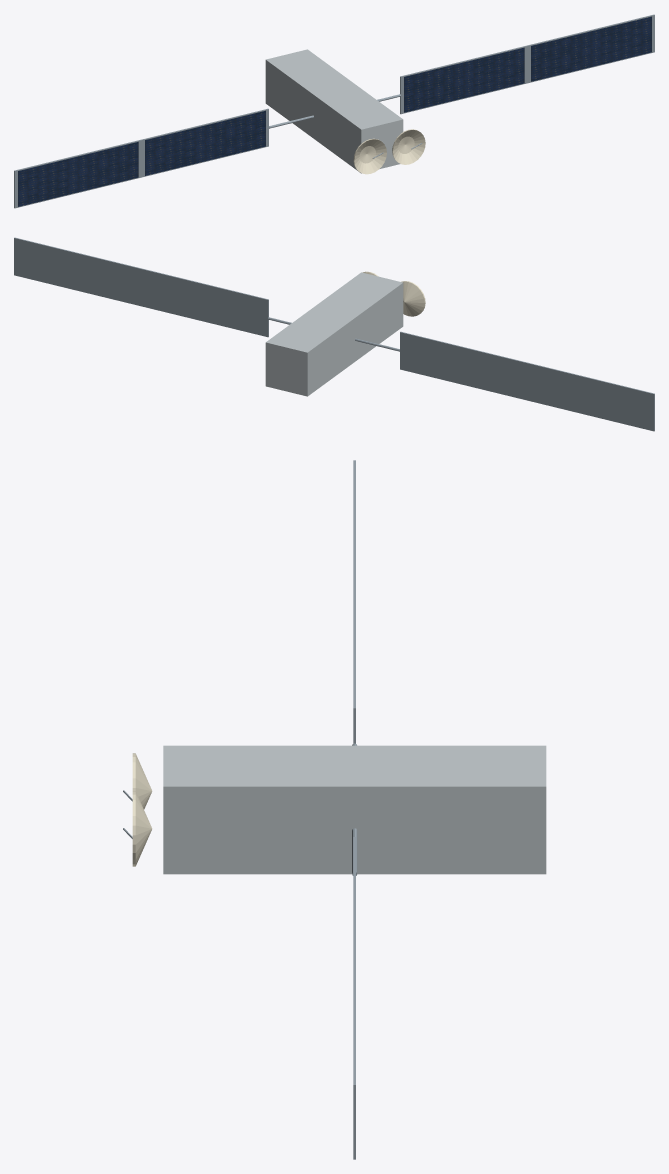
The model's file is ref-ets-6-23230.glb.
The picture shows the model from 3 angles, top to bottom: view 1: azimuth 30°, elevation 25°; view 2: azimuth 150°, elevation 25°; view 3: azimuth 270°, elevation 25°; orthographic projection. The views are drawn at different scales.
Visible parts, largest first — view 1: Photovoltaic laminates (×4), Spacecraft body, Array frame (×4), Reflector dish (×2); view 2: Array frame (×4), Spacecraft body, Reflector dish; view 3: Spacecraft body.
Part boxes in pixels (bbox=[...]): Photovoltaic laminates (×4): bbox=[18, 16, 651, 206]; Spacecraft body: bbox=[265, 49, 403, 173]; Array frame (×4): bbox=[14, 14, 654, 208]; Reflector dish (×2): bbox=[353, 129, 425, 174]; Array frame (×4): bbox=[14, 237, 654, 431]; Spacecraft body: bbox=[265, 272, 403, 396]; Reflector dish: bbox=[401, 281, 425, 316]; Spacecraft body: bbox=[163, 745, 546, 874].
Size of the model in its own units: 30.5 by 2 by 8.73.
4 materials, 1 textured.
